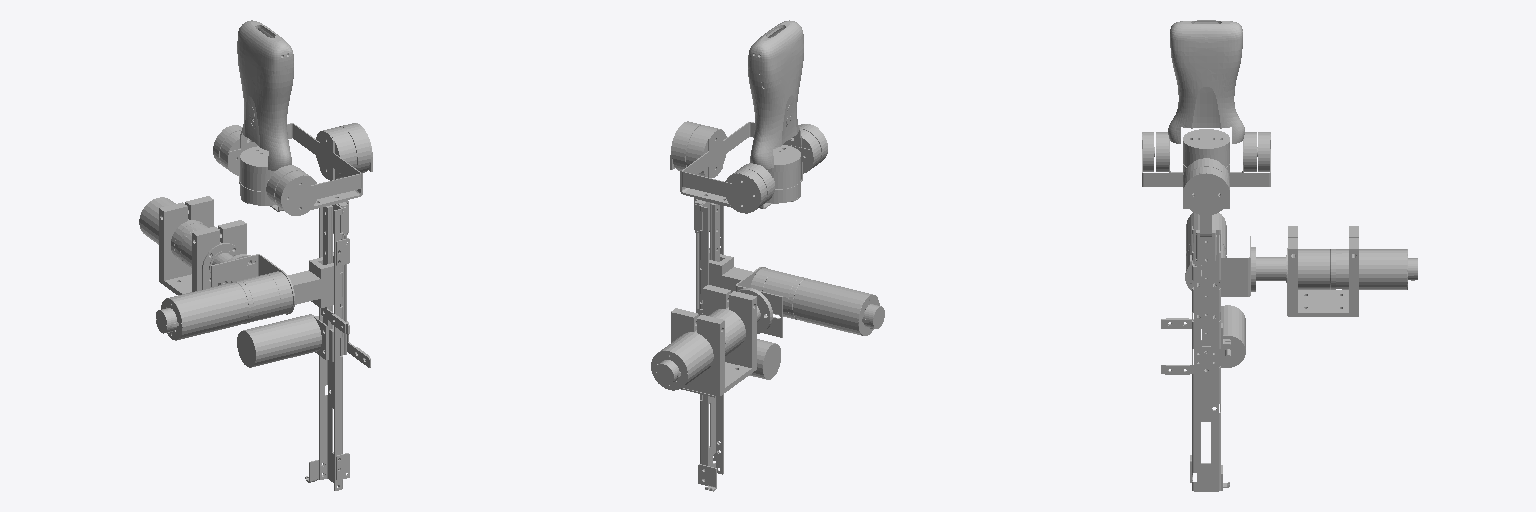
The robot description file, URDF, robot "hapticdevice_URDF":
<?xml version="1.0" encoding="utf-8"?>
<!-- This URDF was automatically created by SolidWorks to URDF Exporter! Originally created by Stephen Brawner (brawner@gmail.com) 
     Commit Version: 1.6.0-4-g7f85cfe  Build Version: 1.6.7995.38578
     For more information, please see http://wiki.ros.org/sw_urdf_exporter -->
<robot
  name="hapticdevice_URDF">
  <link name="world" />
  <link
    name="base_link">
    <inertial>
      <origin
        xyz="-4.1176E-09 0.044026 -0.010769"
        rpy="0 0 0" />
      <mass
        value="0.35643" />
      <inertia
        ixx="0.00035084"
        ixy="3.3904E-11"
        ixz="3.1619E-10"
        iyy="0.00021322"
        iyz="1.1133E-05"
        izz="0.00028173" />
    </inertial>
    <visual>
      <origin
        xyz="0 0 0"
        rpy="0 0 0" />
      <geometry>
        <mesh
          filename="package://hapticdevice_URDF/meshes/base_link.STL" />
      </geometry>
      <material
        name="">
        <color
          rgba="0.75294 0.75294 0.75294 1" />
      </material>
    </visual>
    <collision>
      <origin
        xyz="0 0 0"
        rpy="0 0 0" />
      <geometry>
        <mesh
          filename="package://hapticdevice_URDF/meshes/base_link.STL" />
      </geometry>
    </collision>
  </link>
  <link
    name="link1">
    <inertial>
      <origin
        xyz="-3.8796E-05 0.019458 -0.029667"
        rpy="0 0 0" />
      <mass
        value="0.30565" />
      <inertia
        ixx="0.00011179"
        ixy="2.5773E-08"
        ixz="-6.3437E-08"
        iyy="7.4244E-05"
        iyz="7.2778E-06"
        izz="0.00010005" />
    </inertial>
    <visual>
      <origin
        xyz="0 0 0"
        rpy="0 0 0" />
      <geometry>
        <mesh
          filename="package://hapticdevice_URDF/meshes/link1.STL" />
      </geometry>
      <material
        name="">
        <color
          rgba="0.75294 0.75294 0.75294 1" />
      </material>
    </visual>
    <collision>
      <origin
        xyz="0 0 0"
        rpy="0 0 0" />
      <geometry>
        <mesh
          filename="package://hapticdevice_URDF/meshes/link1.STL" />
      </geometry>
    </collision>
  </link>
  <joint
    name="world_to_base"
    type="fixed">
    <origin
      xyz="0 0 0"
      rpy="0 0 0" />
    <parent
      link="world" />
    <child
      link="base_link" />
  </joint>
  <joint
    name="joint1"
    type="continuous">
    <origin
      xyz="0 -0.081 0"
      rpy="1.5708 -1.5708 0" />
    <parent
      link="base_link" />
    <child
      link="link1" />
    <axis
      xyz="0 0 1" />
    <limit
      effort="10"
      velocity="5" />
  </joint>
  <link
    name="link2">
    <inertial>
      <origin
        xyz="-0.00010508 0.04925 0.06575"
        rpy="0 0 0" />
      <mass
        value="0.20572" />
      <inertia
        ixx="0.00085531"
        ixy="-4.4914E-07"
        ixz="2.2332E-08"
        iyy="3.069E-05"
        iyz="-3.616E-07"
        izz="0.00086051" />
    </inertial>
    <visual>
      <origin
        xyz="0 0 0"
        rpy="0 0 0" />
      <geometry>
        <mesh
          filename="package://hapticdevice_URDF/meshes/link2.STL" />
      </geometry>
      <material
        name="">
        <color
          rgba="0.75294 0.75294 0.75294 1" />
      </material>
    </visual>
    <collision>
      <origin
        xyz="0 0 0"
        rpy="0 0 0" />
      <geometry>
        <mesh
          filename="package://hapticdevice_URDF/meshes/link2.STL" />
      </geometry>
    </collision>
  </link>
  <joint
    name="joint2"
    type="continuous">
    <origin
      xyz="0 0 0"
      rpy="1.5708 -1.5708 0" />
    <parent
      link="link1" />
    <child
      link="link2" />
    <axis
      xyz="0 0 1" />
    <limit
      effort="10"
      velocity="5" />
  </joint>
  <link
    name="link3">
    <inertial>
      <origin
        xyz="-0.087585 0.0021428 -0.042934"
        rpy="0 0 0" />
      <mass
        value="0.092048" />
      <inertia
        ixx="4.7483E-05"
        ixy="-5.1306E-20"
        ixz="6.964E-06"
        iyy="5.0158E-05"
        iyz="4.5003E-07"
        izz="2.1578E-05" />
    </inertial>
    <visual>
      <origin
        xyz="0 0 0"
        rpy="0 0 0" />
      <geometry>
        <mesh
          filename="package://hapticdevice_URDF/meshes/link3.STL" />
      </geometry>
      <material
        name="">
        <color
          rgba="0.75294 0.75294 0.75294 1" />
      </material>
    </visual>
    <collision>
      <origin
        xyz="0 0 0"
        rpy="0 0 0" />
      <geometry>
        <mesh
          filename="package://hapticdevice_URDF/meshes/link3.STL" />
      </geometry>
    </collision>
  </link>
  <joint
    name="joint3"
    type="prismatic">
    <origin
      xyz="-0.00013 -0.12781 0"
      rpy="1.5708 1.5708 0" />
    <parent
      link="link2" />
    <child
      link="link3" />
    <axis
      xyz="0 0 1" />
    <limit
      lower="0"
      upper="0.1242"
      effort="100"
      velocity="0.5" />
  </joint>
  <link
    name="link4">
    <inertial>
      <origin
        xyz="-3.859E-08 0.00013 -0.039537"
        rpy="0 0 0" />
      <mass
        value="0.11363" />
      <inertia
        ixx="0.00019291"
        ixy="5.6083E-19"
        ixz="-1.2656E-20"
        iyy="5.7212E-05"
        iyz="-3.7223E-19"
        izz="0.00015799" />
    </inertial>
    <visual>
      <origin
        xyz="0 0 0"
        rpy="0 0 0" />
      <geometry>
        <mesh
          filename="package://hapticdevice_URDF/meshes/link4.STL" />
      </geometry>
      <material
        name="">
        <color
          rgba="0.75294 0.75294 0.75294 1" />
      </material>
    </visual>
    <collision>
      <origin
        xyz="0 0 0"
        rpy="0 0 0" />
      <geometry>
        <mesh
          filename="package://hapticdevice_URDF/meshes/link4.STL" />
      </geometry>
    </collision>
  </link>
  <joint
    name="joint4"
    type="continuous">
    <origin
      xyz="0 0 0"
      rpy="0 1.5708 0" />
    <parent
      link="link3" />
    <child
      link="link4" />
    <axis
      xyz="0 0 1" />
    <limit
      effort="10"
      velocity="5" />
  </joint>
  <link
    name="link5">
    <inertial>
      <origin
        xyz="-1.9571E-18 -0.0098952 1.1102E-16"
        rpy="0 0 0" />
      <mass
        value="0.088049" />
      <inertia
        ixx="3.73E-05"
        ixy="-1.0453E-20"
        ixz="-5.4415E-20"
        iyy="3.8214E-05"
        iyz="-3.6354E-20"
        izz="1.7833E-05" />
    </inertial>
    <visual>
      <origin
        xyz="0 0 0"
        rpy="0 0 0" />
      <geometry>
        <mesh
          filename="package://hapticdevice_URDF/meshes/link5.STL" />
      </geometry>
      <material
        name="">
        <color
          rgba="0.75294 0.75294 0.75294 1" />
      </material>
    </visual>
    <collision>
      <origin
        xyz="0 0 0"
        rpy="0 0 0" />
      <geometry>
        <mesh
          filename="package://hapticdevice_URDF/meshes/link5.STL" />
      </geometry>
    </collision>
  </link>
  <joint
    name="joint5"
    type="continuous">
    <origin
      xyz="0 0 0"
      rpy="1.5708 -1.5708 0" />
    <parent
      link="link4" />
    <child
      link="link5" />
    <axis
      xyz="0 0 1" />
    <limit
      effort="10"
      velocity="5" />
  </joint>
  <link
    name="link6">
    <inertial>
      <origin
        xyz="7.7961E-06 -1.6354E-05 0.056894"
        rpy="0 0 0" />
      <mass
        value="0.14641" />
      <inertia
        ixx="0.00012747"
        ixy="-2.9587E-08"
        ixz="1.3549E-08"
        iyy="8.8676E-05"
        iyz="-5.0456E-08"
        izz="5.803E-05" />
    </inertial>
    <visual>
      <origin
        xyz="0 0 0"
        rpy="0 0 0" />
      <geometry>
        <mesh
          filename="package://hapticdevice_URDF/meshes/link6.STL" />
      </geometry>
      <material
        name="">
        <color
          rgba="0.75294 0.75294 0.75294 1" />
      </material>
    </visual>
    <collision>
      <origin
        xyz="0 0 0"
        rpy="0 0 0" />
      <geometry>
        <mesh
          filename="package://hapticdevice_URDF/meshes/link6.STL" />
      </geometry>
    </collision>
  </link>
  <joint
    name="joint6"
    type="continuous">
    <origin
      xyz="0 0 0"
      rpy="-1.5708 0 0" />
    <parent
      link="link5" />
    <child
      link="link6" />
    <axis
      xyz="0 0 1" />
    <limit
      effort="10"
      velocity="5" />
  </joint>
  <link
    name="link3b">
    <inertial>
      <origin
        xyz="-0.038751 -0.015113 -0.18115"
        rpy="0 0 0" />
      <mass
        value="0.10018" />
      <inertia
        ixx="2.8595E-05"
        ixy="-7.3251E-20"
        ixz="-2.1292E-21"
        iyy="4.7627E-05"
        iyz="4.5003E-07"
        izz="3.7548E-05" />
    </inertial>
    <visual>
      <origin
        xyz="0 0 0"
        rpy="0 0 0" />
      <geometry>
        <mesh
          filename="package://hapticdevice_URDF/meshes/link3b.STL" />
      </geometry>
      <material
        name="">
        <color
          rgba="0.75294 0.75294 0.75294 1" />
      </material>
    </visual>
    <collision>
      <origin
        xyz="0 0 0"
        rpy="0 0 0" />
      <geometry>
        <mesh
          filename="package://hapticdevice_URDF/meshes/link3b.STL" />
      </geometry>
    </collision>
  </link>
  <joint
    name="joint3b"
    type="prismatic">
    <origin
      xyz="-0.00013 -0.12781 0"
      rpy="1.5708 1.5708 0" />
    <parent
      link="link2" />
    <child
      link="link3b" />
    <axis
      xyz="0 0 1" />
    <limit
      lower="-0.1242"
      upper="0"
      effort="100"
      velocity="0.5" />
    <mimic
      joint="joint3"
      multiplier="-1"
      offset="0" />
  </joint>
  <ros2_control name="GazeboSimSystem" type="system">
    <hardware>
      <plugin>gz_ros2_control/GazeboSimSystem</plugin>
    </hardware>
    <joint name="joint1">
      <command_interface name="position"/>
      <state_interface name="position">
        <param name="initial_value">0.0</param>
      </state_interface>
      <state_interface name="velocity"/>
      <state_interface name="effort"/>
    </joint>
    <joint name="joint2">
      <command_interface name="position"/>
      <state_interface name="position">
        <param name="initial_value">0.0</param>
      </state_interface>
      <state_interface name="velocity"/>
      <state_interface name="effort"/>
    </joint>
    <joint name="joint3">
      <command_interface name="position">
        <param name="min">0.0</param>
        <param name="max">0.1242</param>
      </command_interface>
      <state_interface name="position">
        <param name="initial_value">0.0</param>
      </state_interface>
      <state_interface name="velocity"/>
      <state_interface name="effort"/>
    </joint>
    <joint name="joint4">
      <command_interface name="position"/>
      <state_interface name="position">
        <param name="initial_value">0.0</param>
      </state_interface>
      <state_interface name="velocity"/>
      <state_interface name="effort"/>
    </joint>
    <joint name="joint5">
      <command_interface name="position"/>
      <state_interface name="position">
        <param name="initial_value">0.0</param>
      </state_interface>
      <state_interface name="velocity"/>
      <state_interface name="effort"/>
    </joint>
    <joint name="joint6">
      <command_interface name="position"/>
      <state_interface name="position">
        <param name="initial_value">0.0</param>
      </state_interface>
      <state_interface name="velocity"/>
      <state_interface name="effort"/>
    </joint>
    <joint name="joint3b">
      <param name="mimic">joint3</param>
      <param name="multiplier">-1</param>
      <state_interface name="position">
        <param name="initial_value">0.0</param>
      </state_interface>
      <state_interface name="velocity"/>
      <state_interface name="effort"/>
    </joint>
  </ros2_control>
  <gazebo>
    <plugin
      filename="libgz_ros2_control-system.so"
      name="gz_ros2_control::GazeboSimROS2ControlPlugin">
      <parameters>__HAPTICDEVICE_CONTROLLERS_FILE__</parameters>
      <hold_joints>true</hold_joints>
    </plugin>
  </gazebo>
</robot>

--- Facts derived from the render (not from the file) ---
Views: 3 orthographic renders of the robot side by side, from view 1: azimuth 30°, elevation 25°; view 2: azimuth 150°, elevation 25°; view 3: azimuth 270°, elevation 25°.
Model hapticdevice_URDF with 9 links and 8 joints (5 continuous, 2 prismatic, 1 fixed), rooted at world, posed every joint at zero.
Links seen in each view (by area): view 1: link6, link1, link2, base_link, link4, link3b, link3, link5; view 2: base_link, link6, link1, link4, link2, link5, link3, link3b; view 3: link6, base_link, link2, link3, link1, link4, link3b, link5.
Boxes of the visible links, box(x1,y1,x2,y2) form: link6: box(237, 20, 293, 191); link1: box(156, 253, 294, 340); link2: box(288, 203, 349, 490); base_link: box(139, 196, 246, 294); link4: box(213, 123, 361, 215); link3b: box(237, 205, 349, 367); link3: box(310, 123, 372, 367); link5: box(220, 130, 303, 211); base_link: box(651, 285, 756, 397); link6: box(748, 20, 803, 188); link1: box(736, 267, 884, 337); link4: box(682, 122, 827, 213); link2: box(695, 200, 751, 491); link5: box(737, 129, 821, 208); link3: box(670, 121, 732, 312); link3b: box(710, 203, 780, 379); link6: box(1168, 20, 1244, 167); base_link: box(1286, 226, 1417, 316); link2: box(1190, 226, 1230, 491); link3: box(1161, 167, 1229, 375); link1: box(1185, 212, 1285, 296); link4: box(1142, 132, 1270, 186); link3b: box(1161, 276, 1245, 367); link5: box(1156, 132, 1256, 172).
Bounding box of the posed robot: 0.2111 × 0.2735 × 0.4781 m (x, y, z).
Meshes: 8 distinct files referenced, 8 mesh visuals loaded (8 binary STL).
